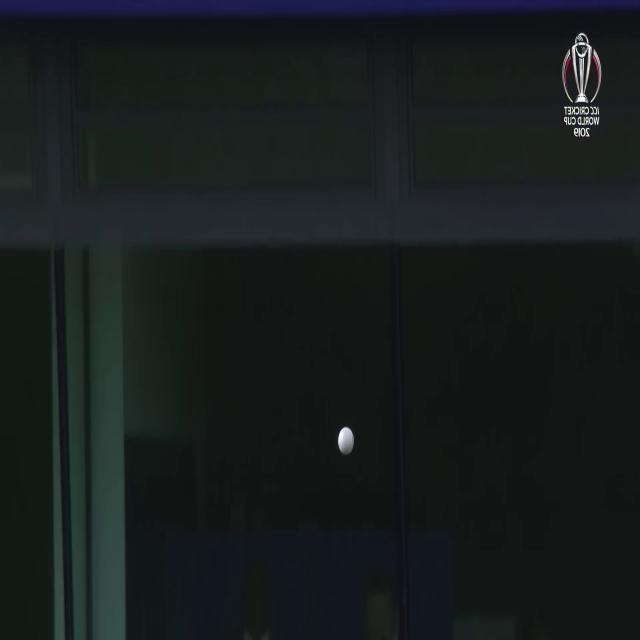ball: (332, 420, 359, 464)
